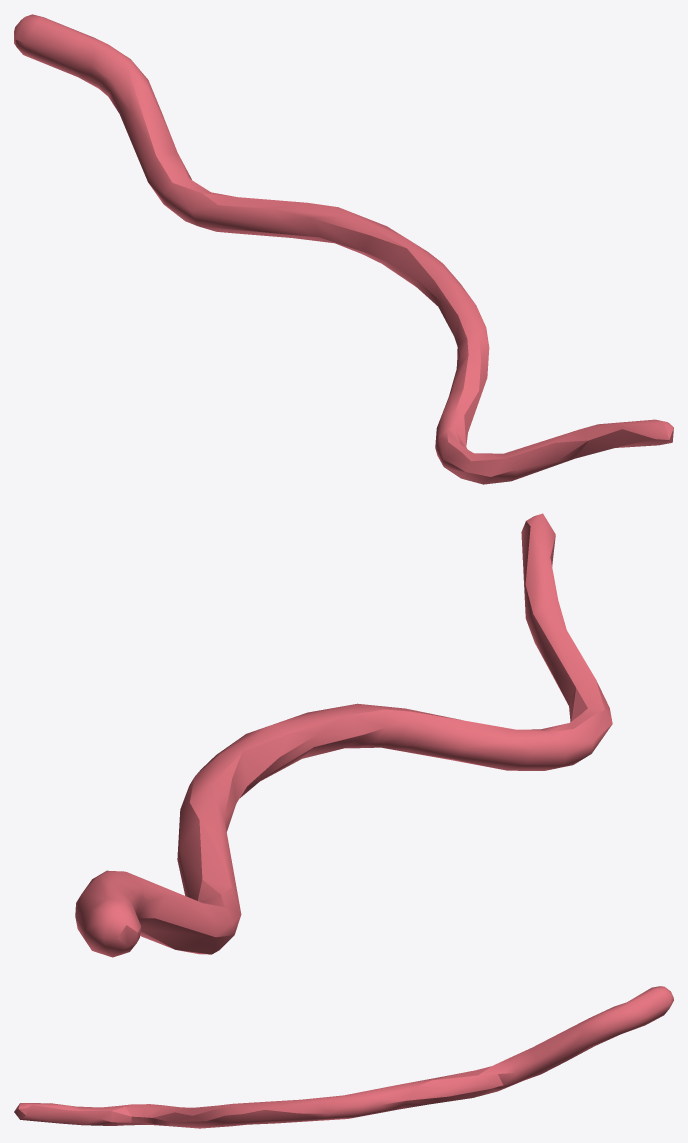
Rendered from fma4712_fj2709.glb.
3 views of the same model, one above another, from view 1: azimuth 30°, elevation 25°; view 2: azimuth 150°, elevation 25°; view 3: azimuth 270°, elevation 25° (orthographic). The views are drawn at different scales.
Visible parts, largest first — view 1: FMA4712_FJ2709; view 2: FMA4712_FJ2709; view 3: FMA4712_FJ2709.
Part boxes in pixels (x1,y1,x2,y2): FMA4712_FJ2709: (14, 14, 673, 484); FMA4712_FJ2709: (75, 513, 612, 957); FMA4712_FJ2709: (14, 986, 673, 1128).
Size of the model in its own units: 0.00464 by 0.0044 by 0.0213.
